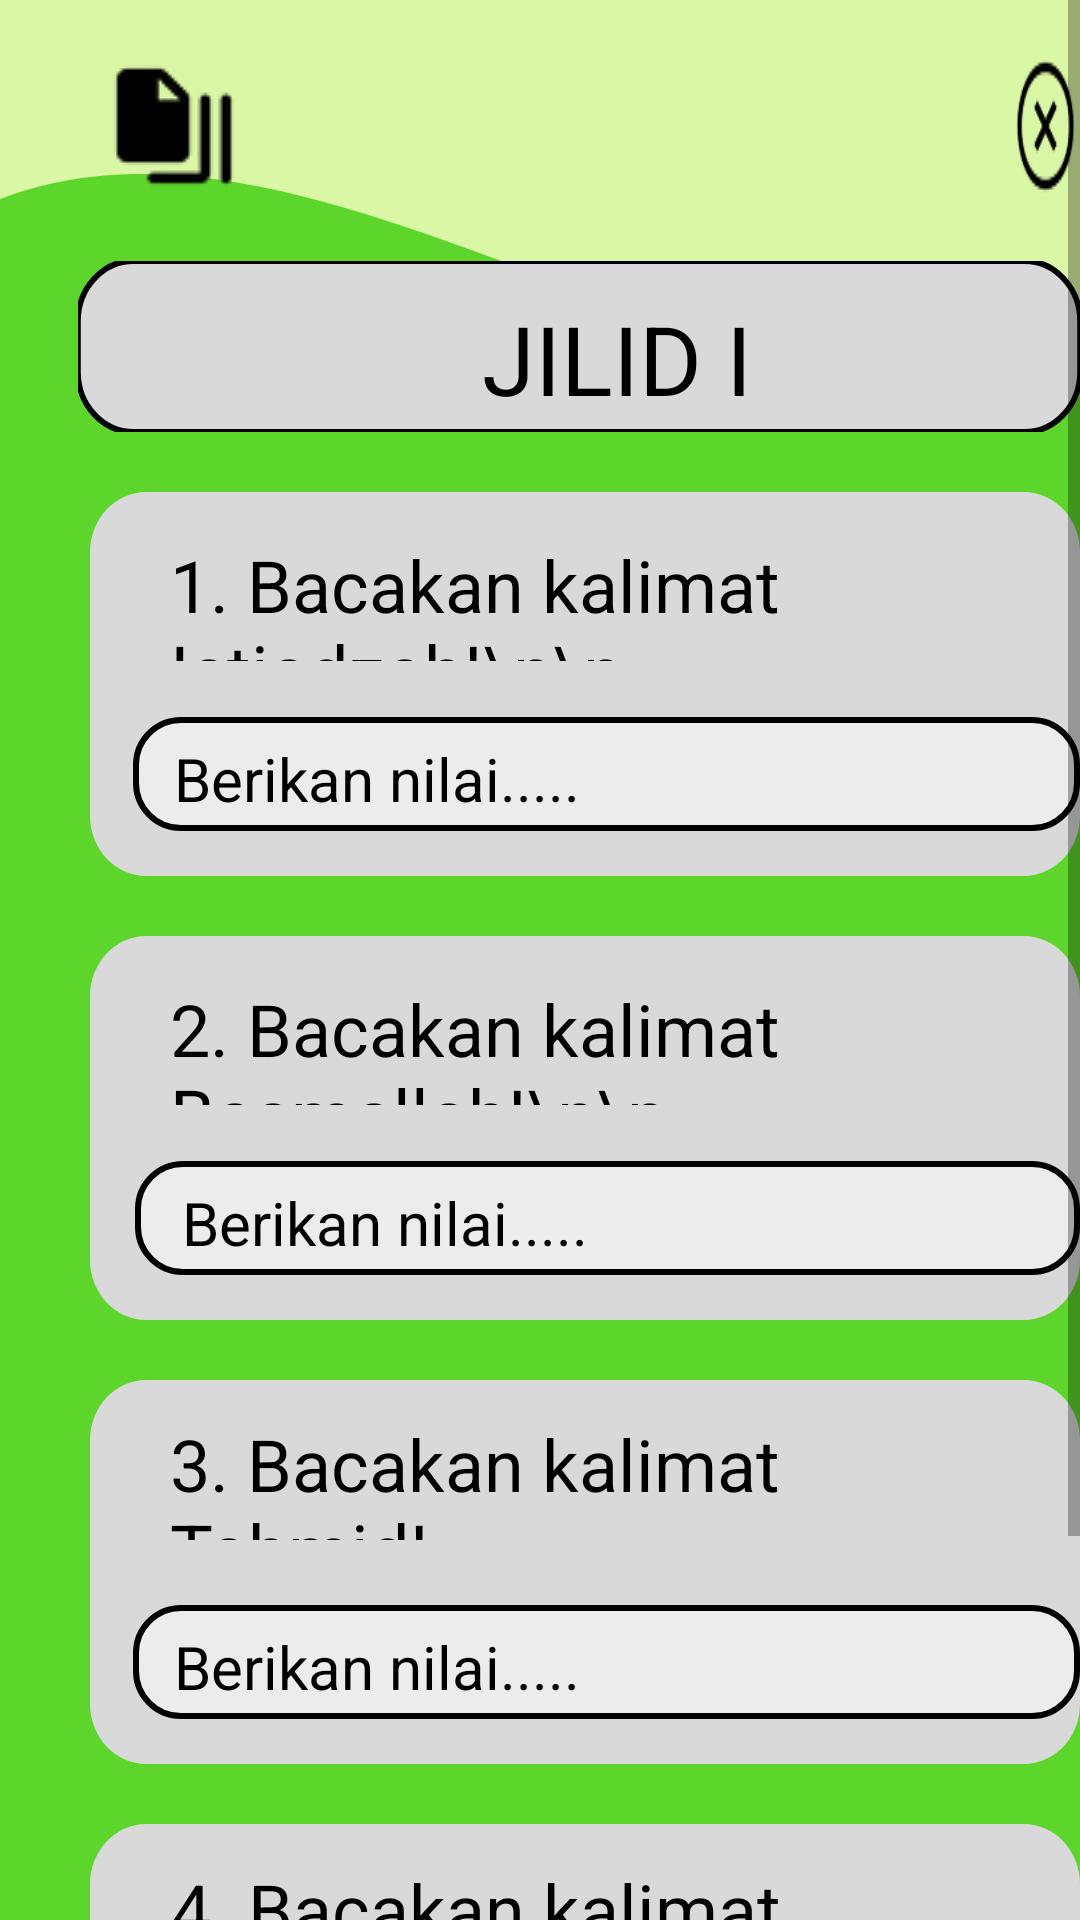

Named icons in this screenshot (1080w x 1920h) and their bounding boxes, (x1=x1, y1=y1, x2=x2, y2=y2):
cancel: (x1=1017, y1=48, x2=1080, y2=204)
choose page: (x1=96, y1=68, x2=252, y2=204)
